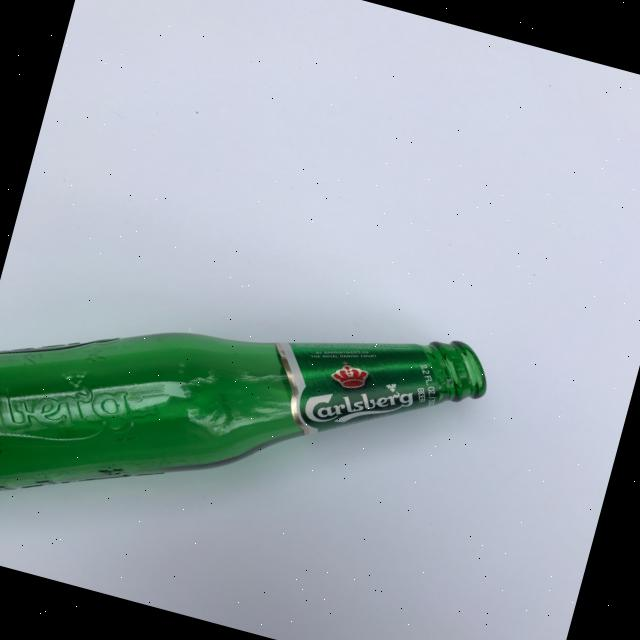glass: (0, 220, 497, 628)
